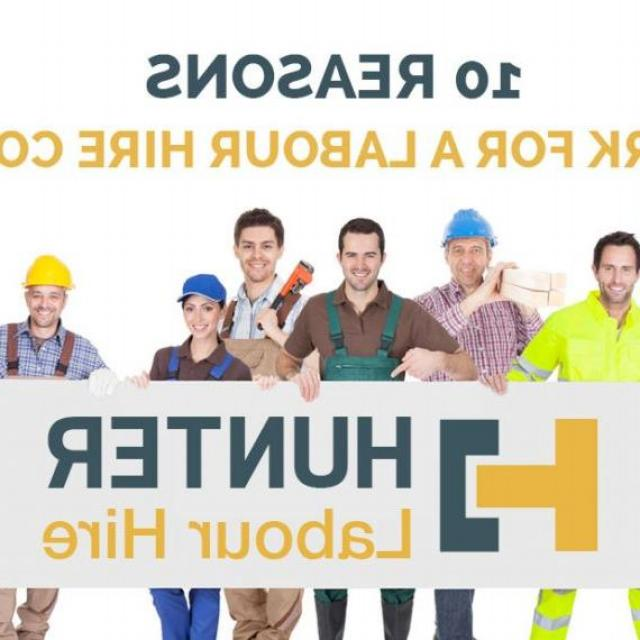Reflective-Jacket: (508, 288, 640, 387)
Safety-Helmet: (436, 203, 499, 248), (18, 250, 76, 292), (174, 271, 226, 304)
